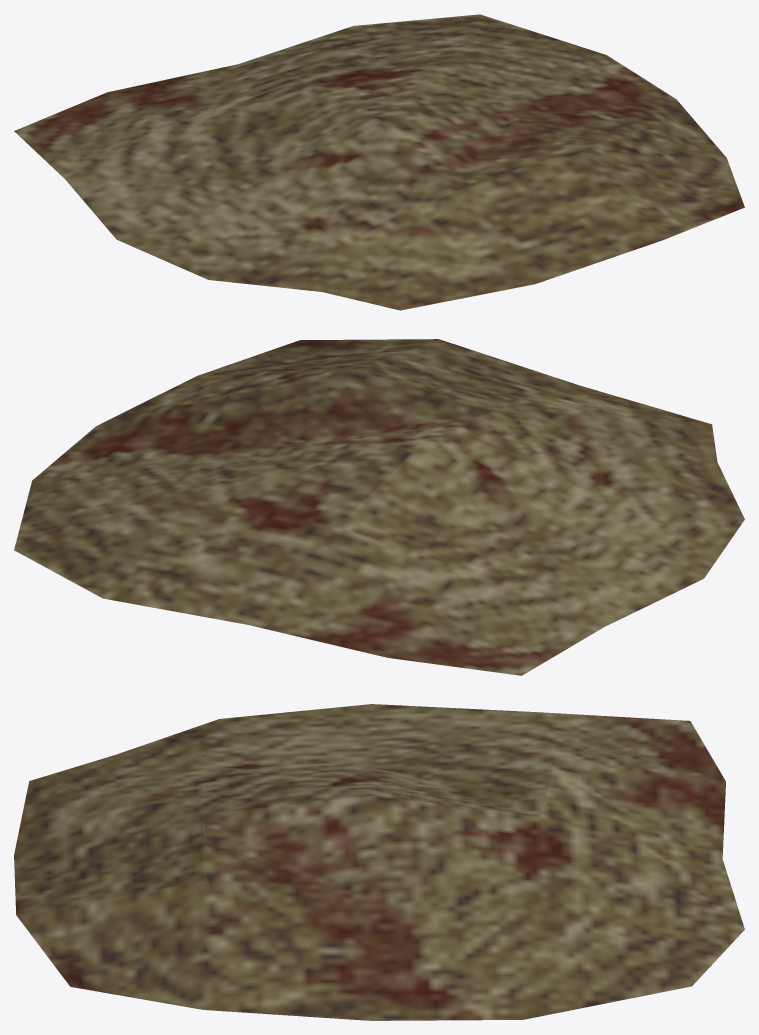
Rendered from SM_EC_Horror_Hay_Patch_3.fbx.
3 renders of one model, top to bottom at view 1: azimuth 30°, elevation 25°; view 2: azimuth 150°, elevation 25°; view 3: azimuth 270°, elevation 25°, orthographic. The views are drawn at different scales.
Parts seen in each view (by area): view 1: SM_EC_Horror_Hay_Patch_3; view 2: SM_EC_Horror_Hay_Patch_3; view 3: SM_EC_Horror_Hay_Patch_3.
Part boxes in pixels (box(x1,y1,x2,y2)): SM_EC_Horror_Hay_Patch_3: box(14, 14, 744, 310); SM_EC_Horror_Hay_Patch_3: box(14, 339, 744, 675); SM_EC_Horror_Hay_Patch_3: box(14, 704, 744, 1020).
Size of the model in its own units: 1.52 by 1.46 by 0.1355.
